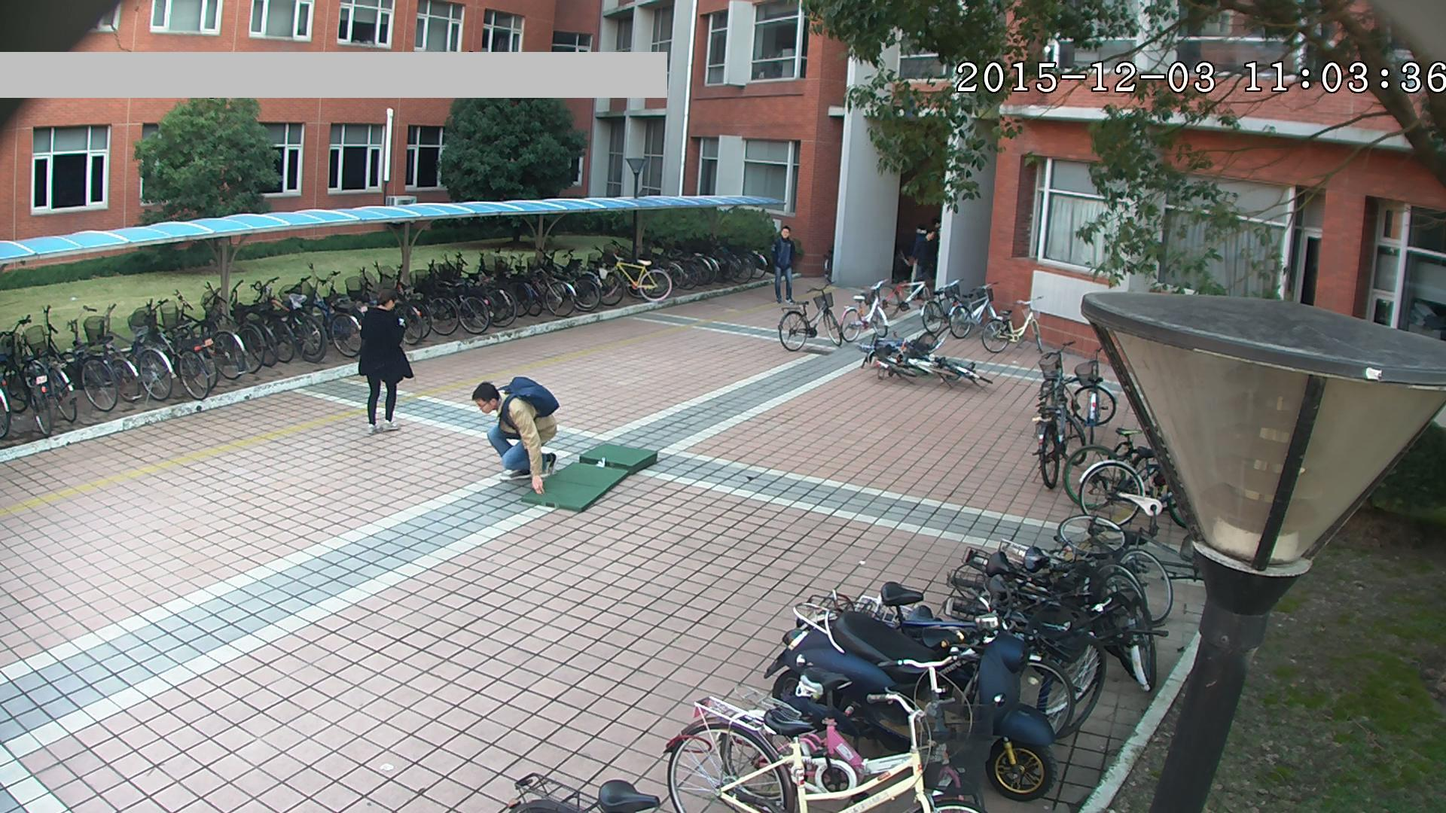person: (452, 378, 574, 490), (351, 281, 416, 442), (761, 219, 803, 307)
